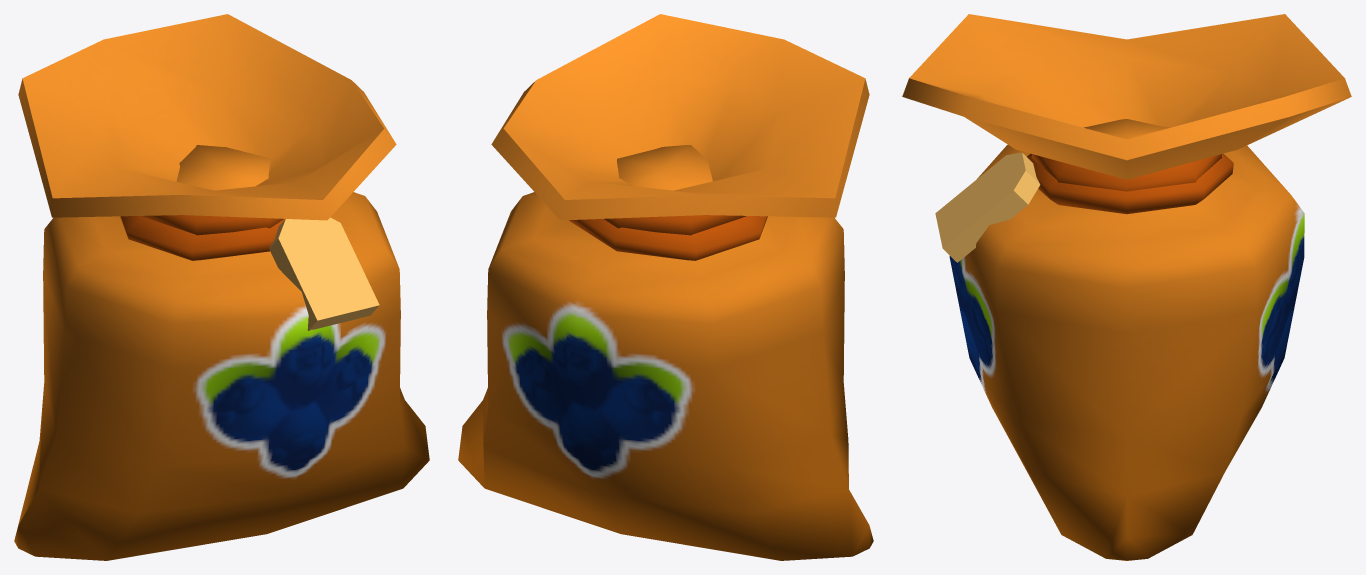
Rendered from Seed_Sack_Bluberry_01.fbx.
The picture shows the model from 3 angles, left to right: view 1: azimuth 30°, elevation 25°; view 2: azimuth 150°, elevation 25°; view 3: azimuth 270°, elevation 25°; orthographic projection.
Visible parts, largest first — view 1: Seed_Sack_Bluberry_01; view 2: Seed_Sack_Bluberry_01; view 3: Seed_Sack_Bluberry_01.
Boxes of the visible parts, box(x1,y1,x2,y2) form: Seed_Sack_Bluberry_01: box(14, 14, 429, 560); Seed_Sack_Bluberry_01: box(458, 14, 873, 560); Seed_Sack_Bluberry_01: box(902, 14, 1351, 560).
Bounding box in the file's own units: 108 × 110 × 104.
